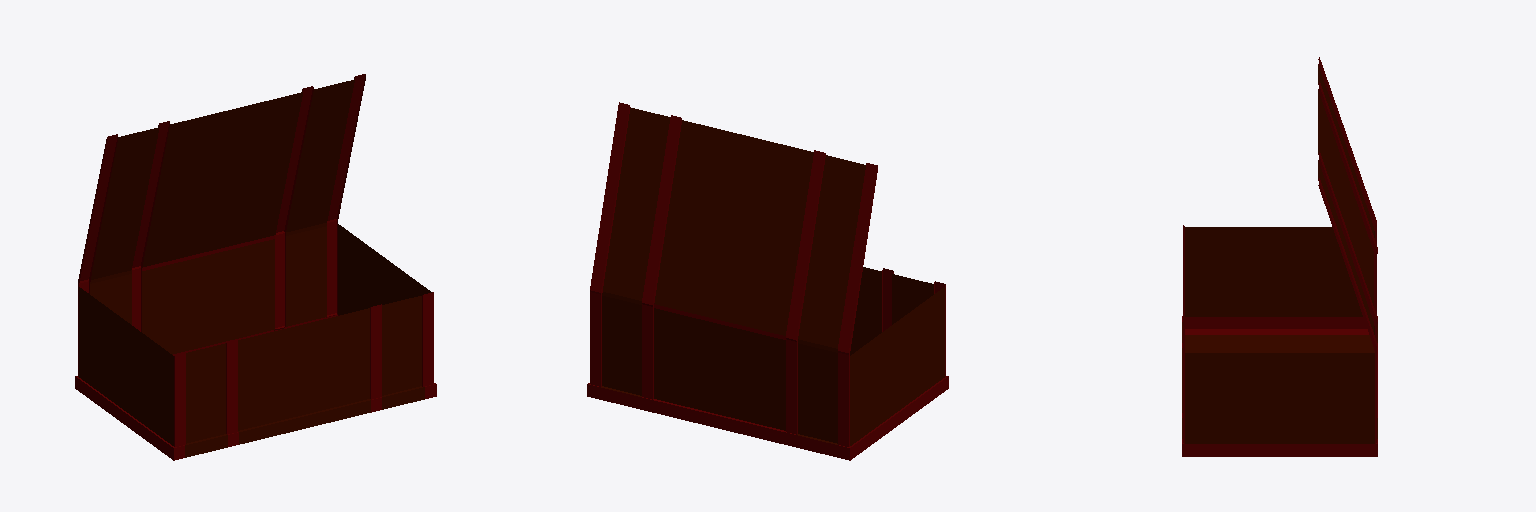
The model's file is TreasureBox_open.obj.
3 renders of one model, left to right at view 1: azimuth 30°, elevation 25°; view 2: azimuth 150°, elevation 25°; view 3: azimuth 270°, elevation 25°, orthographic.
Parts seen in each view (by area): view 1: TreasureBox_open_Cube.009; view 2: TreasureBox_open_Cube.009; view 3: TreasureBox_open_Cube.009.
Part boxes in pixels (left/top/right/bottom): TreasureBox_open_Cube.009: left=75, top=74, right=436, bottom=460; TreasureBox_open_Cube.009: left=587, top=102, right=948, bottom=460; TreasureBox_open_Cube.009: left=1182, top=57, right=1377, bottom=456.
Bounding box in the file's own units: 62.35 × 61.95 × 40.42.